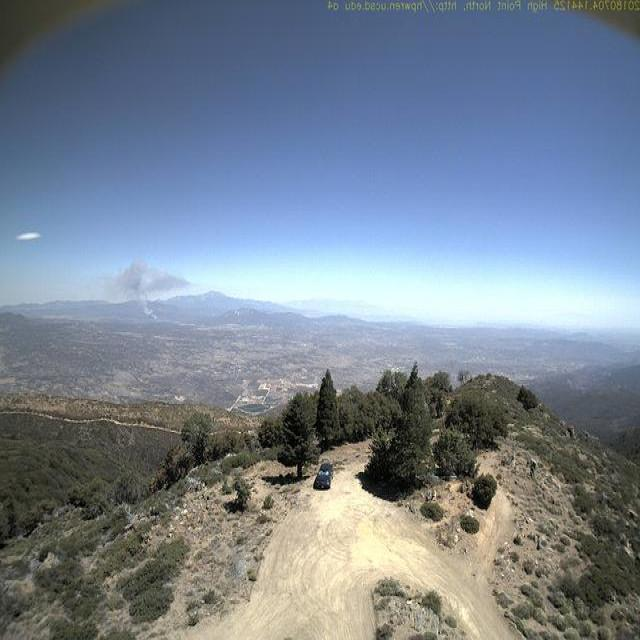smoke: (101, 255, 194, 325)
